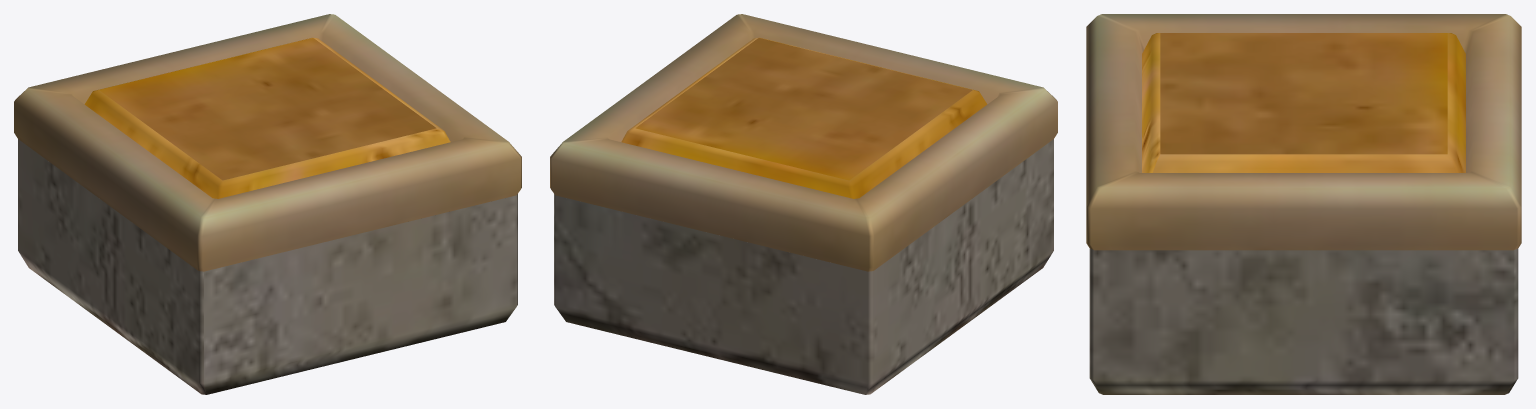
3 renders of one model, left to right at view 1: azimuth 30°, elevation 25°; view 2: azimuth 150°, elevation 25°; view 3: azimuth 270°, elevation 25°, orthographic. The views are drawn at different scales.
Visible parts, largest first — view 1: SM_Vault_Mirror_Button_Plinth_Button_01_LOD0; view 2: SM_Vault_Mirror_Button_Plinth_Button_01_LOD0; view 3: SM_Vault_Mirror_Button_Plinth_Button_01_LOD0.
Part boxes in pixels (x1=…): SM_Vault_Mirror_Button_Plinth_Button_01_LOD0: x1=14, y1=14, x2=521, y2=394; SM_Vault_Mirror_Button_Plinth_Button_01_LOD0: x1=550, y1=14, x2=1057, y2=394; SM_Vault_Mirror_Button_Plinth_Button_01_LOD0: x1=1086, y1=14, x2=1521, y2=394.
Bounding box in the file's own units: 0.2539 × 0.1381 × 0.2539.
3 materials, 3 textured.
